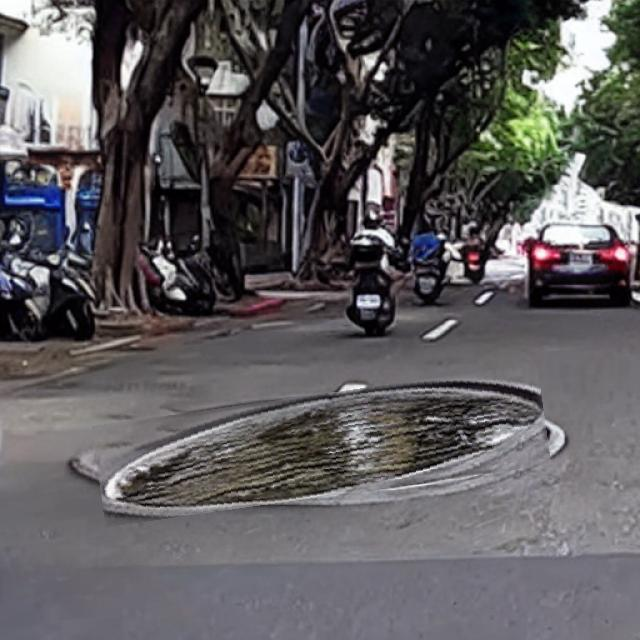puddle: (95, 381, 550, 513)
